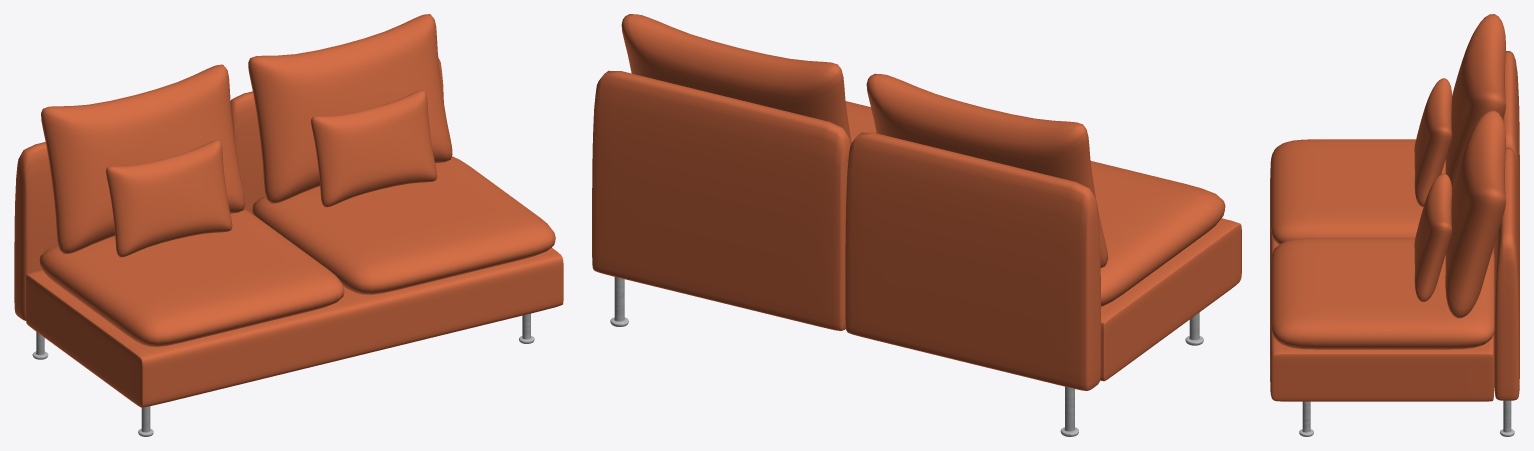
3 views of the same model, side by side, from view 1: azimuth 30°, elevation 25°; view 2: azimuth 150°, elevation 25°; view 3: azimuth 270°, elevation 25° (orthographic). The views are drawn at different scales.
Parts seen in each view (by area): view 1: polySurface28.001; view 2: polySurface28.001; view 3: polySurface28.001.
Boxes of the visible parts, box(x1,y1,x2,y2) form: polySurface28.001: box(14, 14, 563, 436); polySurface28.001: box(592, 14, 1241, 436); polySurface28.001: box(1270, 14, 1519, 436).
Size of the model in its own units: 0.6904 by 0.3972 by 0.3696.
Materials: 1 (1 with a texture image).
